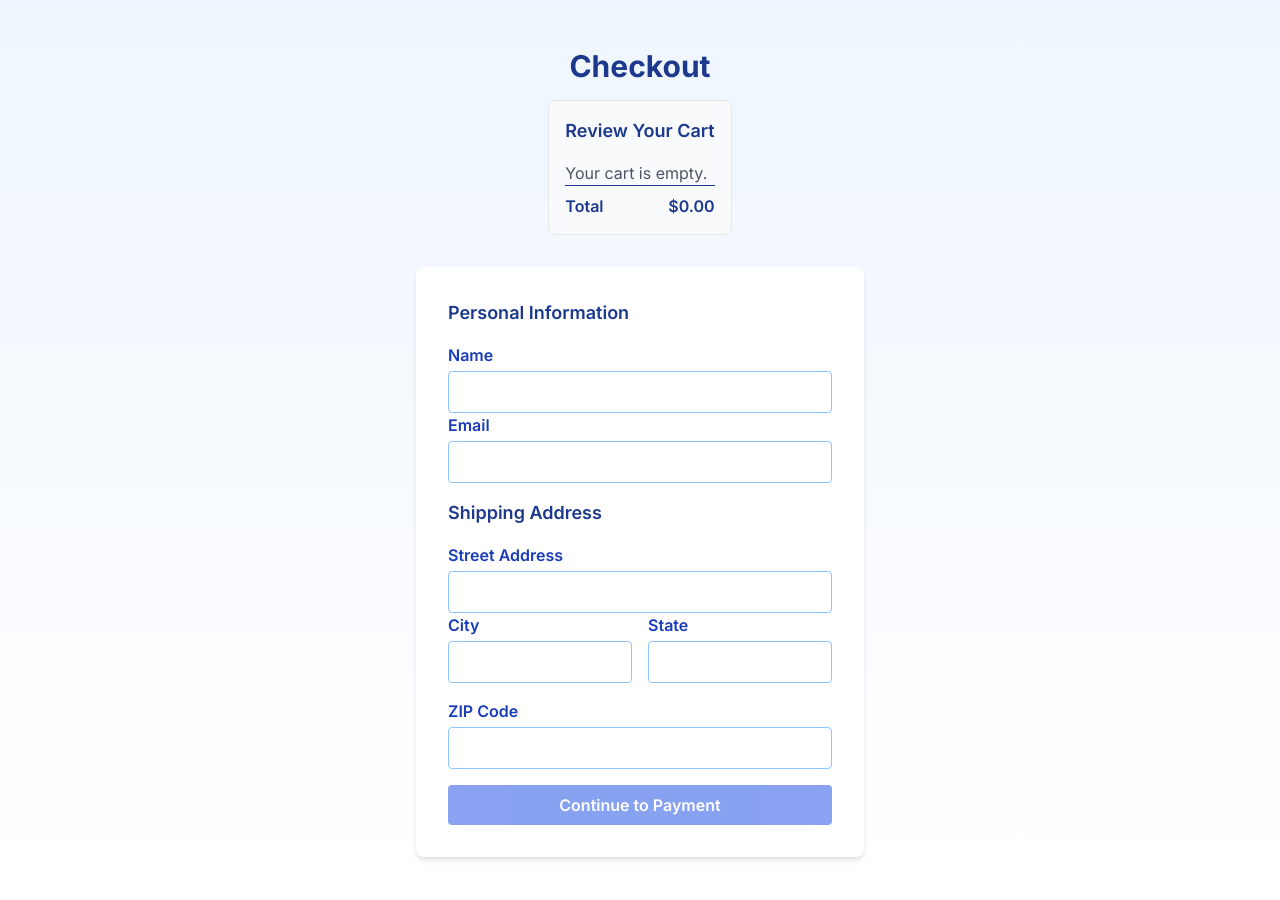
CheckoutPage › shows payment form after valid form submission
The image size is (1280, 900).
Note: Fill out form
Type "John Doe" into the field labelled "Name" at (640, 392), box [448,371,832,413]
Type "john@example.com" into the field labelled "Email" at (640, 462), box [448,441,832,483]
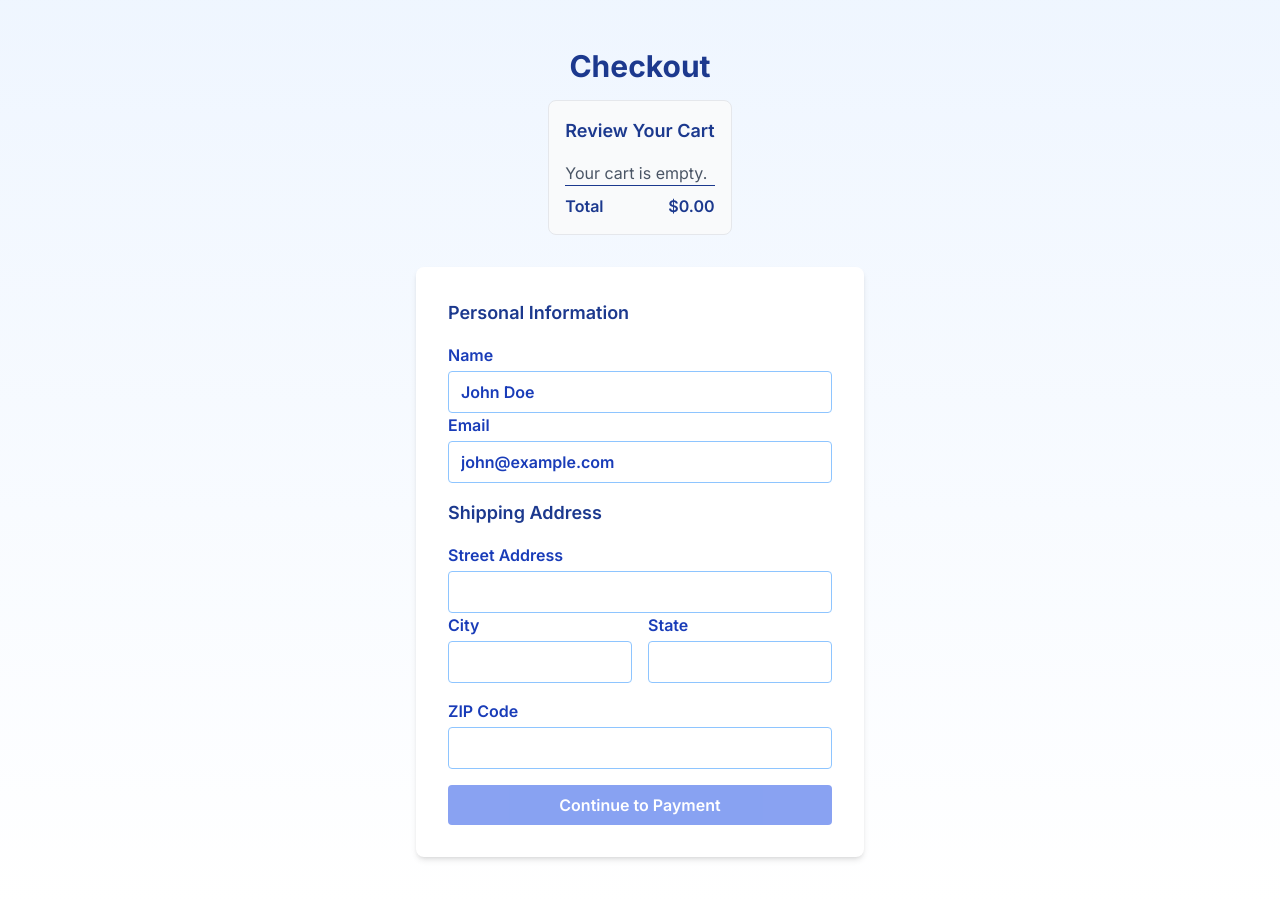
Type "123 Main St" into the field labelled "Street Address" at (640, 592), box [448,571,832,613]
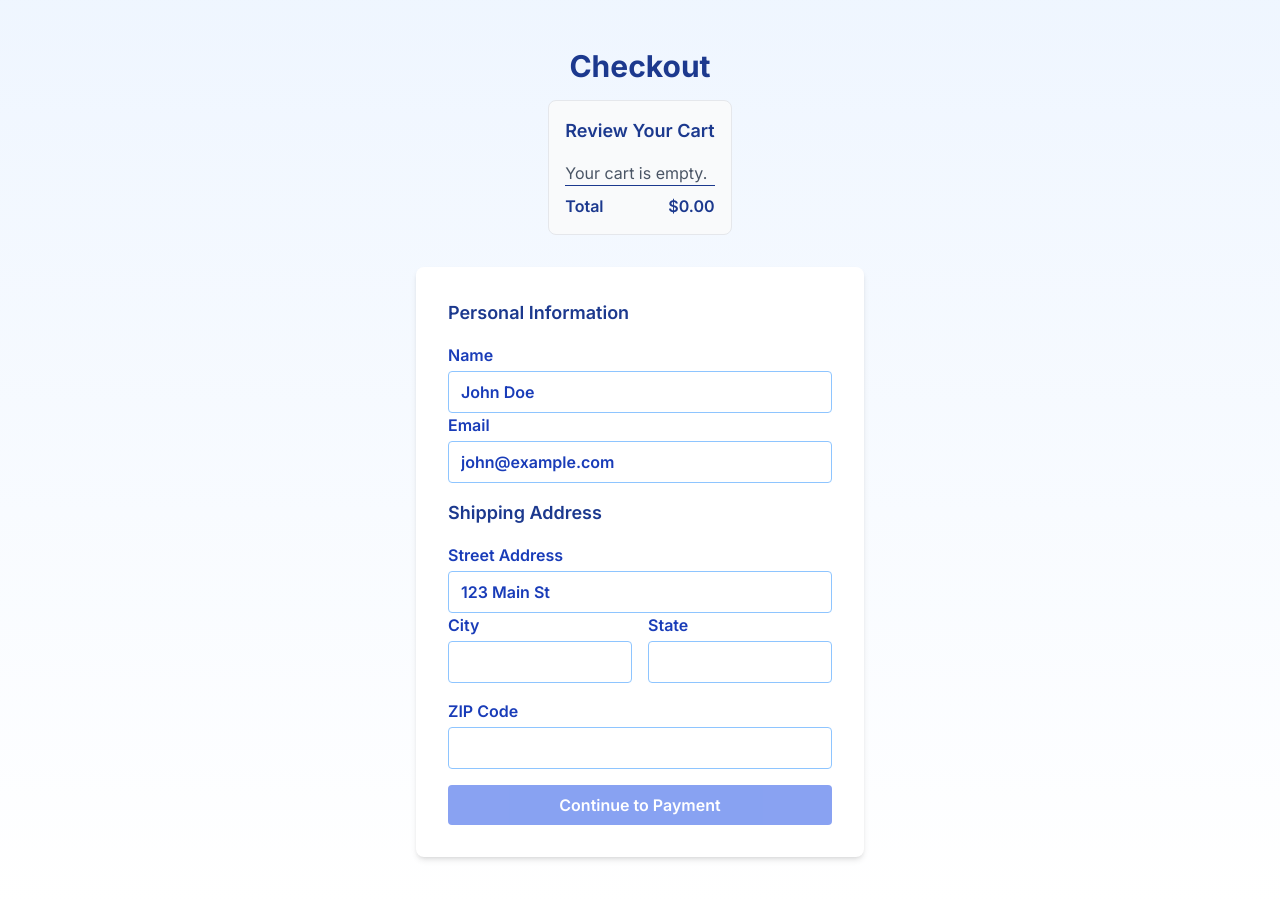
Type "Anytown" into the field labelled "City" at (540, 662), box [448,641,632,683]
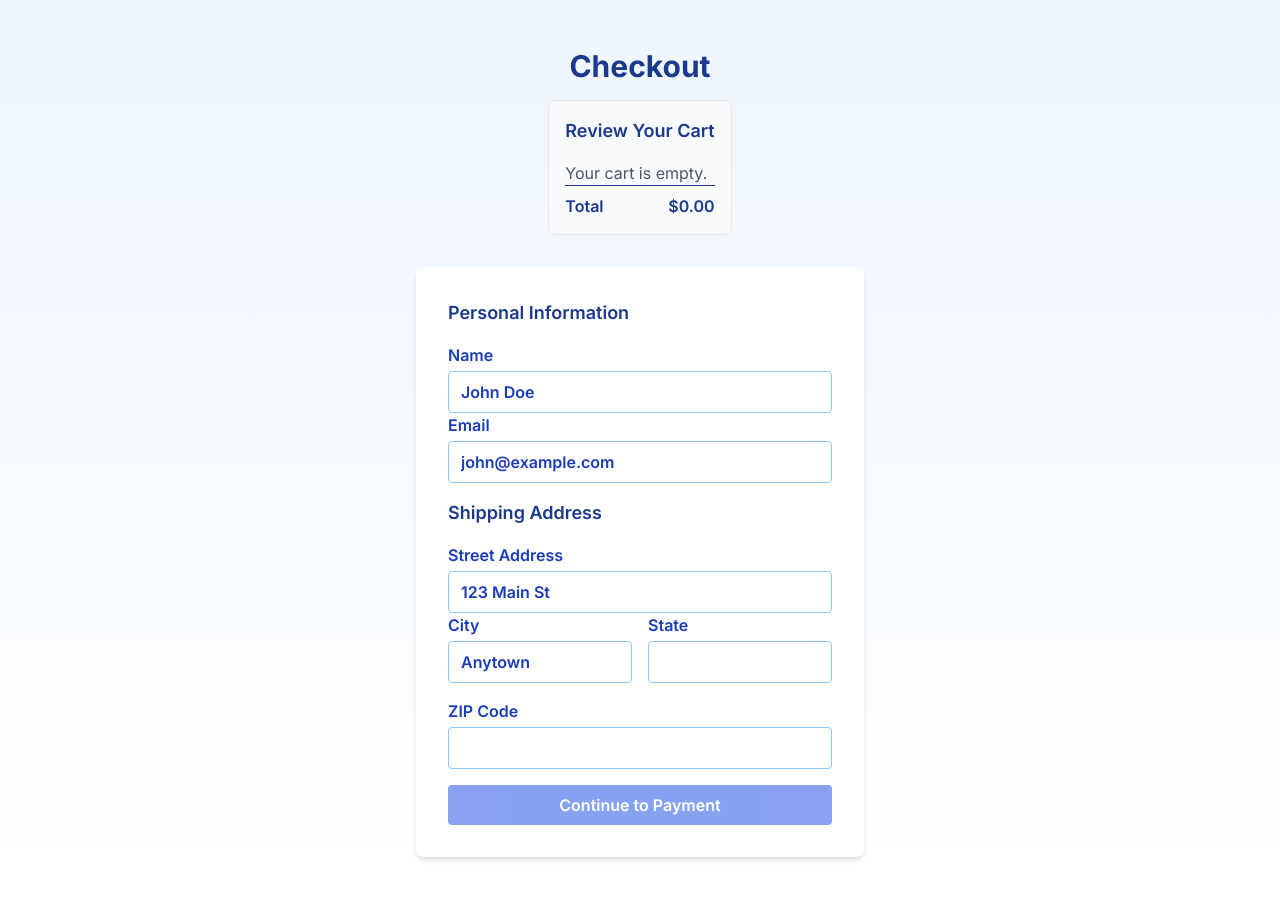
Type "CA" into the field labelled "State" at (740, 662), box [648,641,832,683]
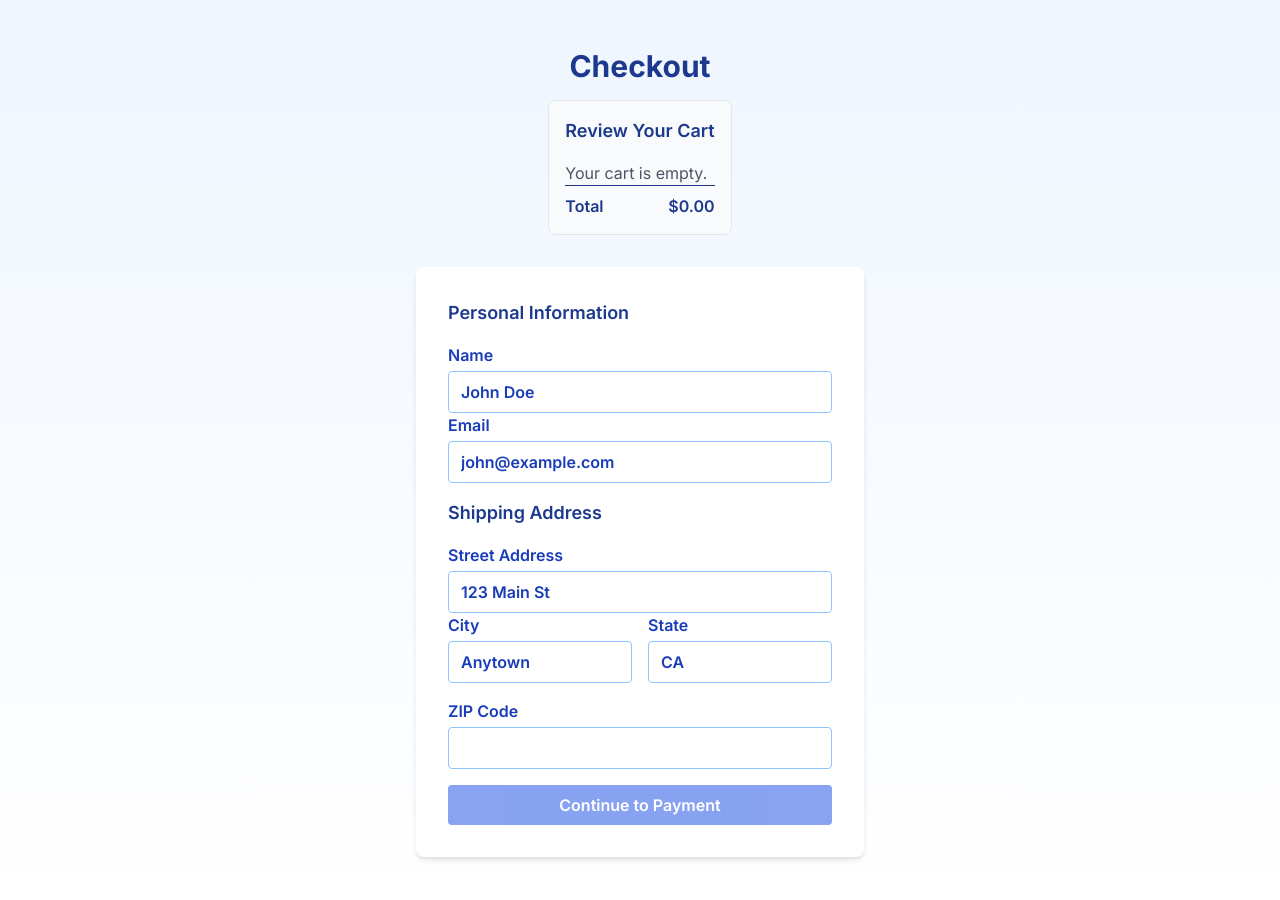
Type "12345" into the field labelled "ZIP Code" at (640, 748), box [448,727,832,769]
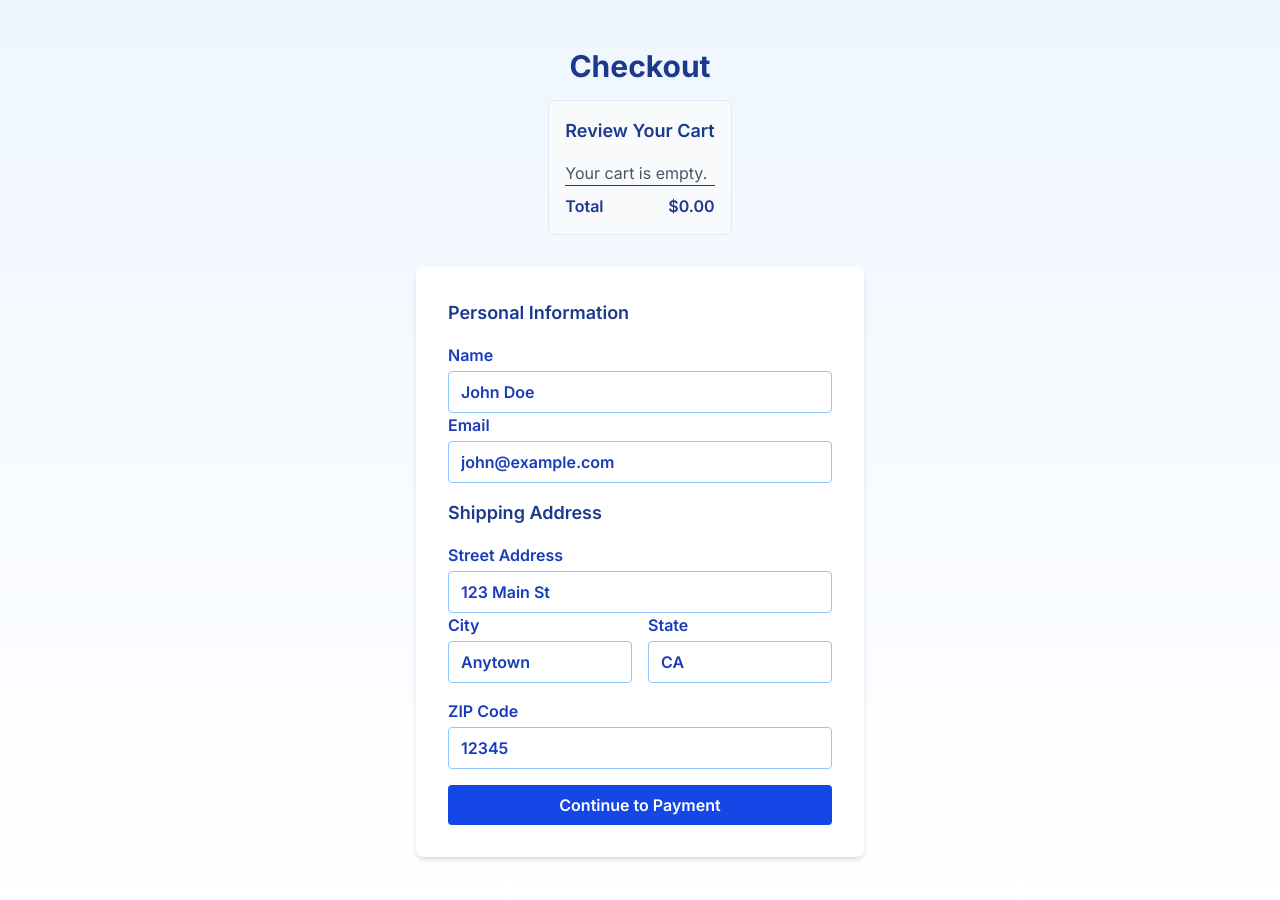
Note: Submit form
Click the button "Continue to Payment" at (640, 805), box [448,785,832,825]
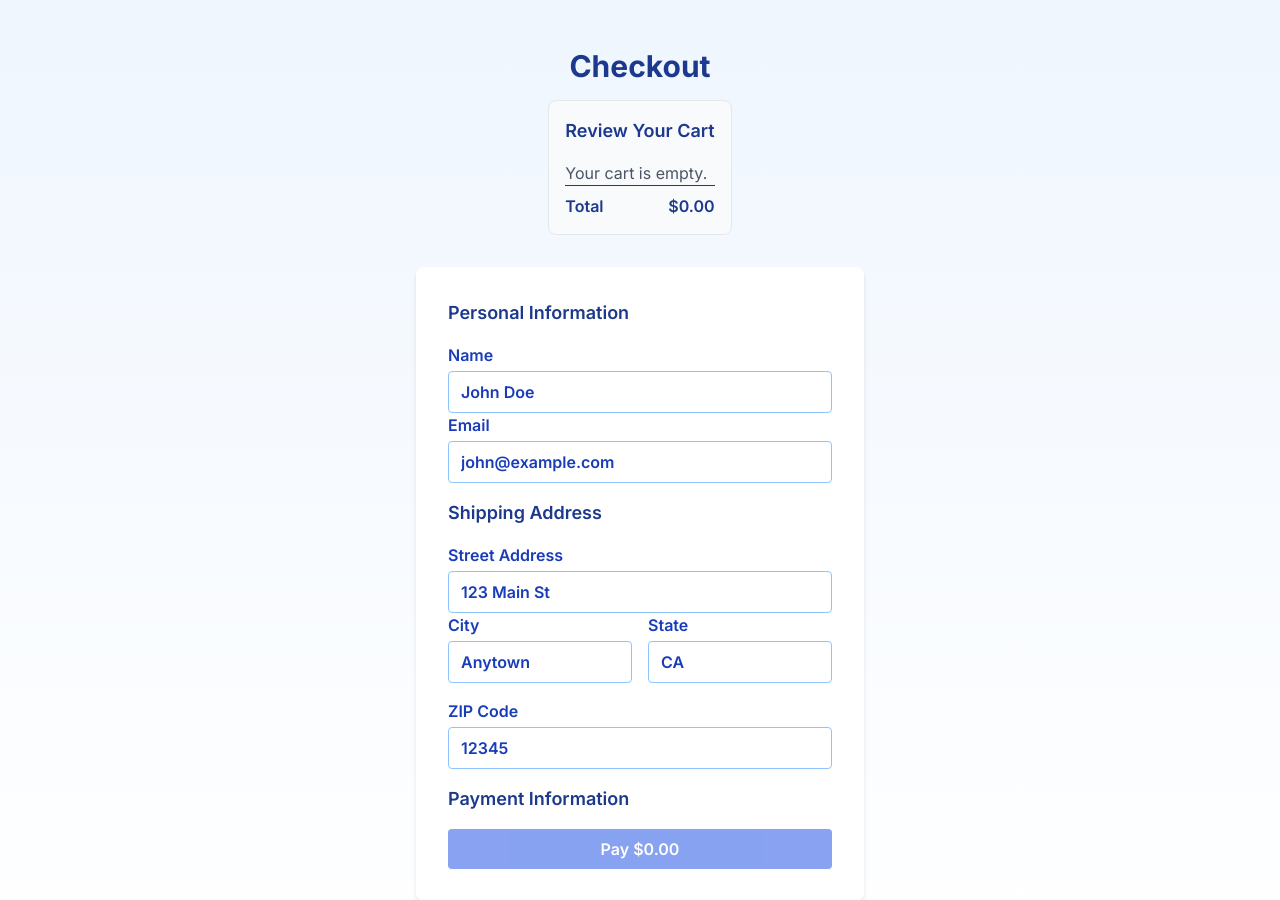
Now the heading "Payment Information" is shown, box [448,788,629,809]
